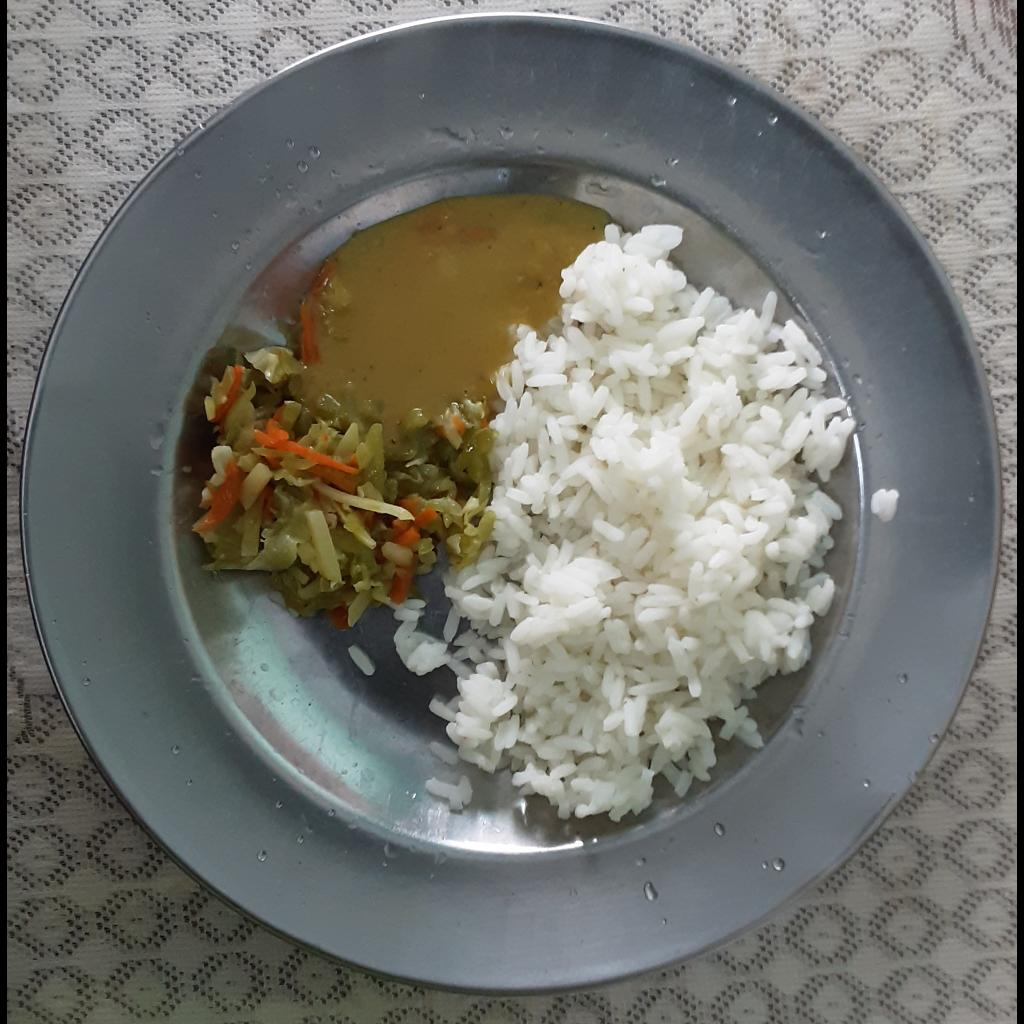daal: (315, 192, 607, 418)
rice: (394, 217, 853, 821)
vegetable: (186, 238, 491, 631)
